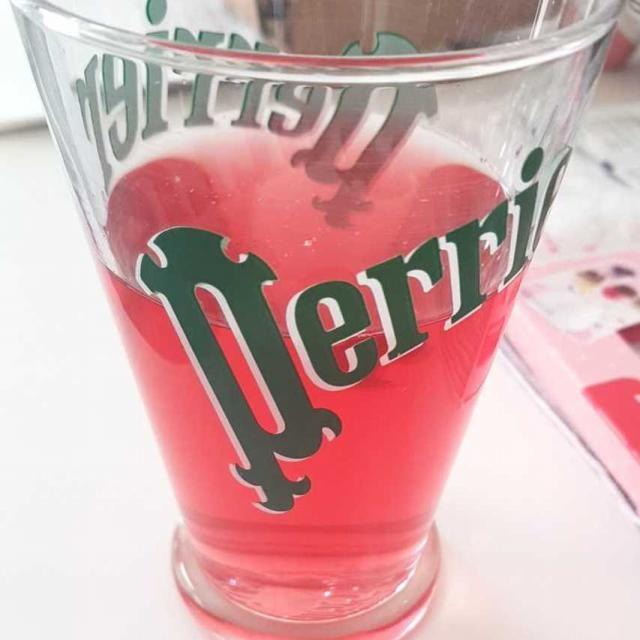tea: (102, 63, 563, 588)
